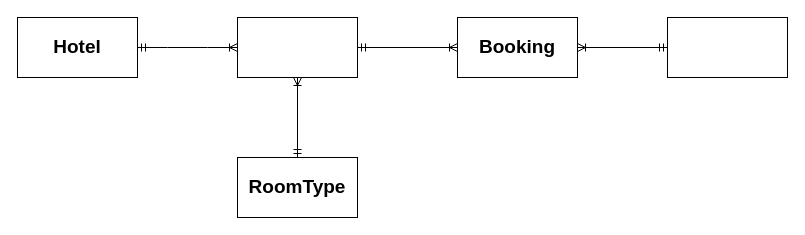
Image size: 805x235. Some labels were removed from this diagram. Each missing label, with the box of its shape:
Customer: (666, 16, 788, 78)
Room: (236, 16, 358, 78)
